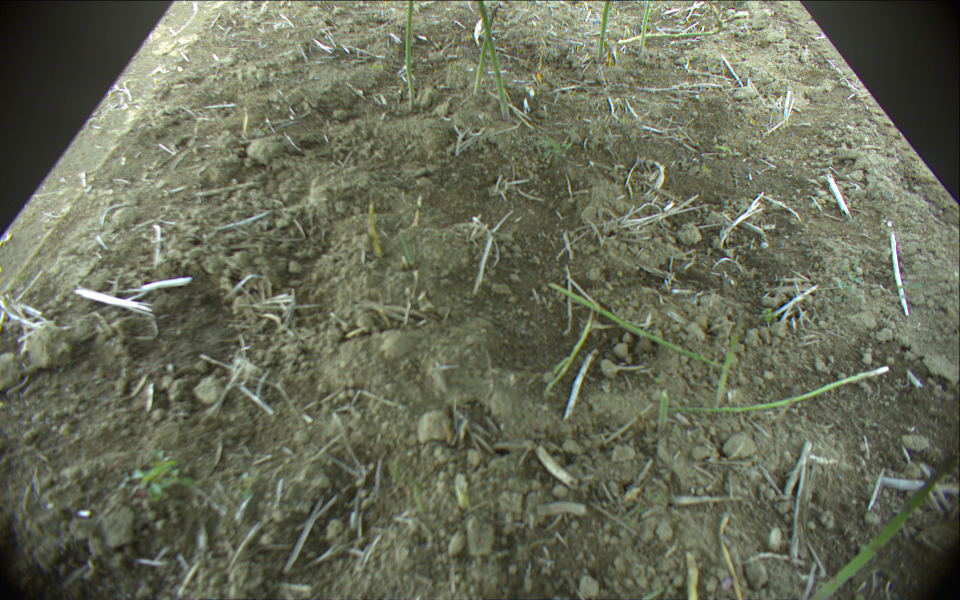aspa: (547, 282, 734, 376), (669, 365, 891, 411), (476, 1, 509, 122), (473, 3, 500, 95), (717, 326, 744, 415), (620, 27, 723, 44), (402, 1, 417, 112), (596, 1, 613, 64), (641, 1, 654, 53), (658, 387, 670, 434)
